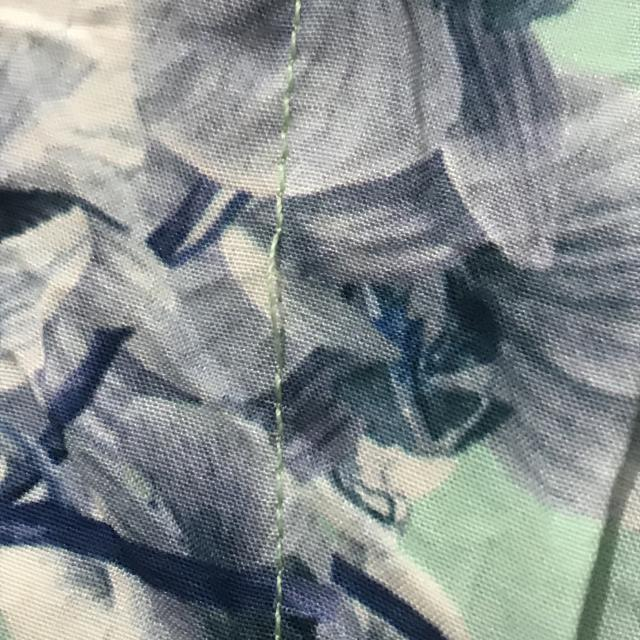skip: (234, 198, 317, 395)
